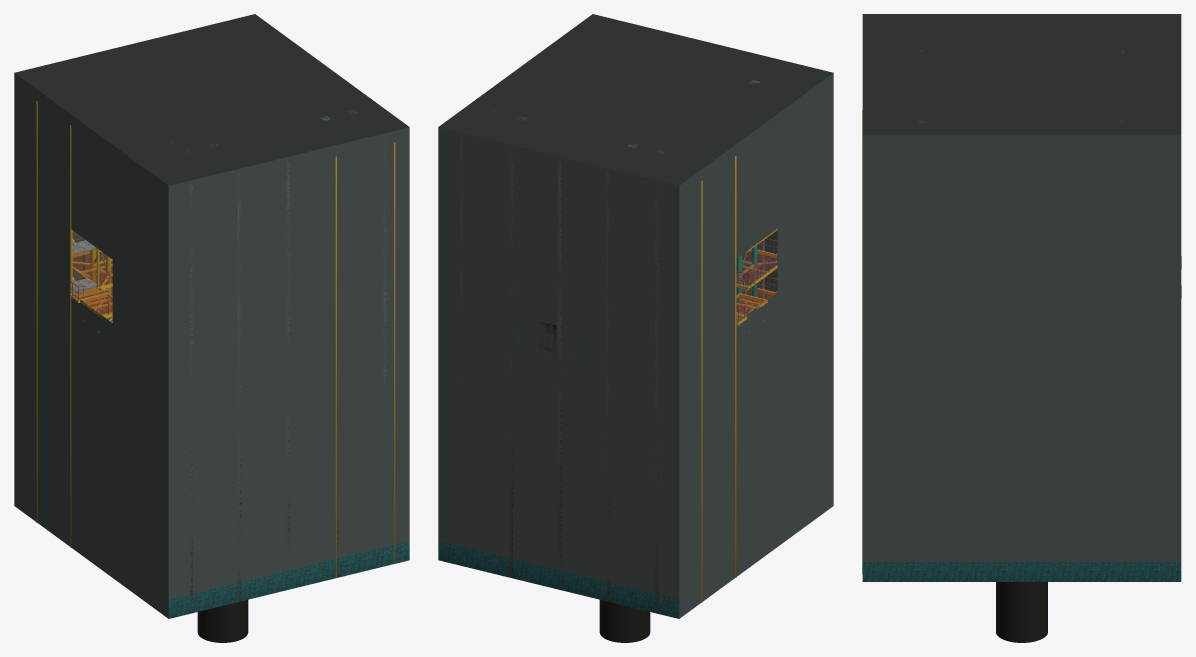
Rendered from torre_A_struttura.glb.
The picture shows the model from 3 angles, left to right: view 1: azimuth 30°, elevation 25°; view 2: azimuth 150°, elevation 25°; view 3: azimuth 270°, elevation 25°; orthographic projection. The views are drawn at different scales.
Parts seen in each view (by area): view 1: torre_A, torre_A_grigliati; view 2: torre_A, torre_A_grigliati; view 3: torre_A.
Part boxes in pixels (bbox=[...]): torre_A: bbox=[14, 14, 409, 642]; torre_A_grigliati: bbox=[70, 249, 112, 321]; torre_A: bbox=[438, 14, 833, 642]; torre_A_grigliati: bbox=[736, 249, 777, 322]; torre_A: bbox=[862, 14, 1181, 642].
Bounding box in the file's own units: 19.99 × 42 × 22.03.
17 materials, 13 textured.
